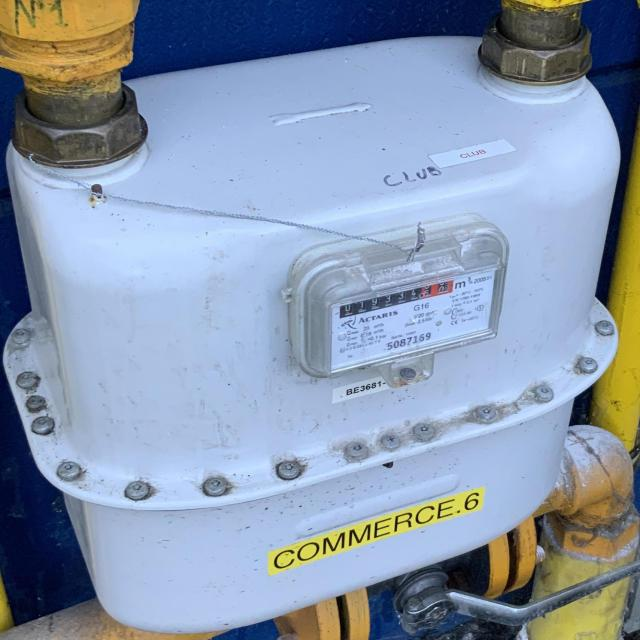gaz_meter: (327, 258, 498, 379)
indication: (337, 276, 457, 321)
